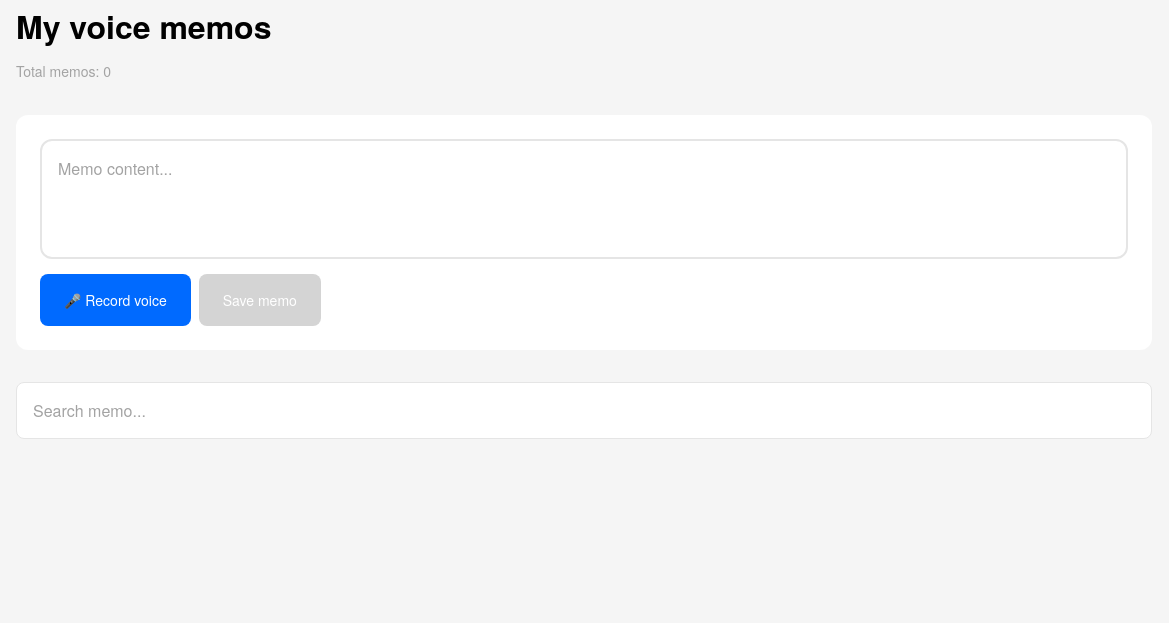
it: Main page › Create memo, when filled and Save clicked
The image size is (1169, 623).
Expected: the text with id "memosCount" reads "0", [103, 61, 111, 81]
Type "Hello memo" into the text box with placeholder "Memo content..." at [584, 199], box [40, 139, 1128, 259]
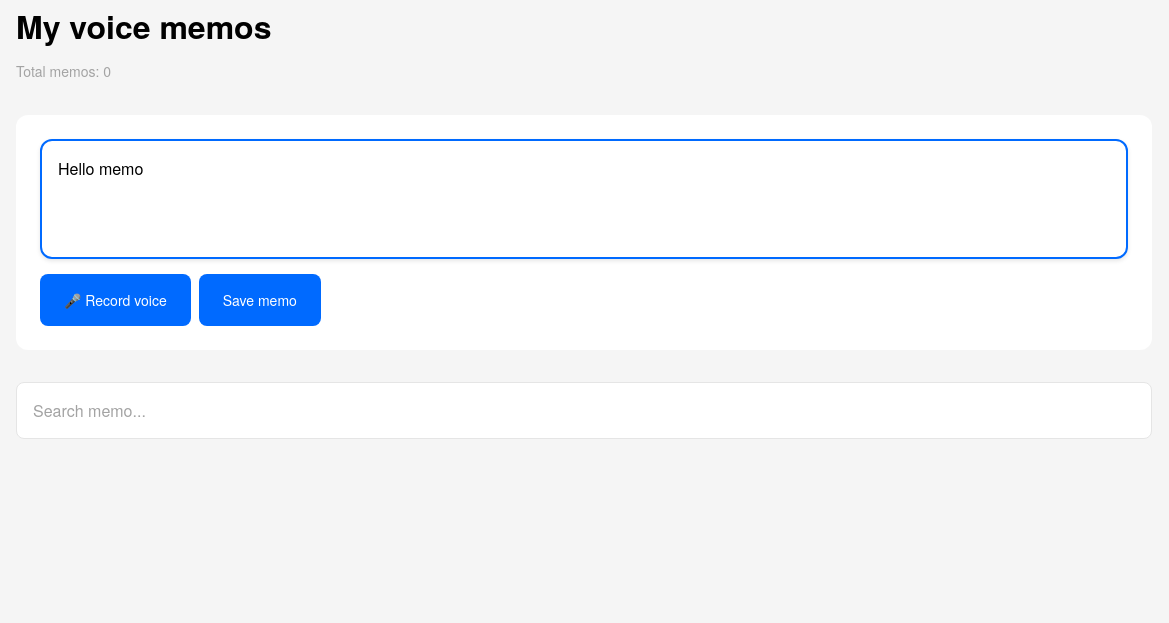
Now the button "Save memo" is enabled
Click the button "Save memo" at [260, 300], box [199, 274, 321, 326]
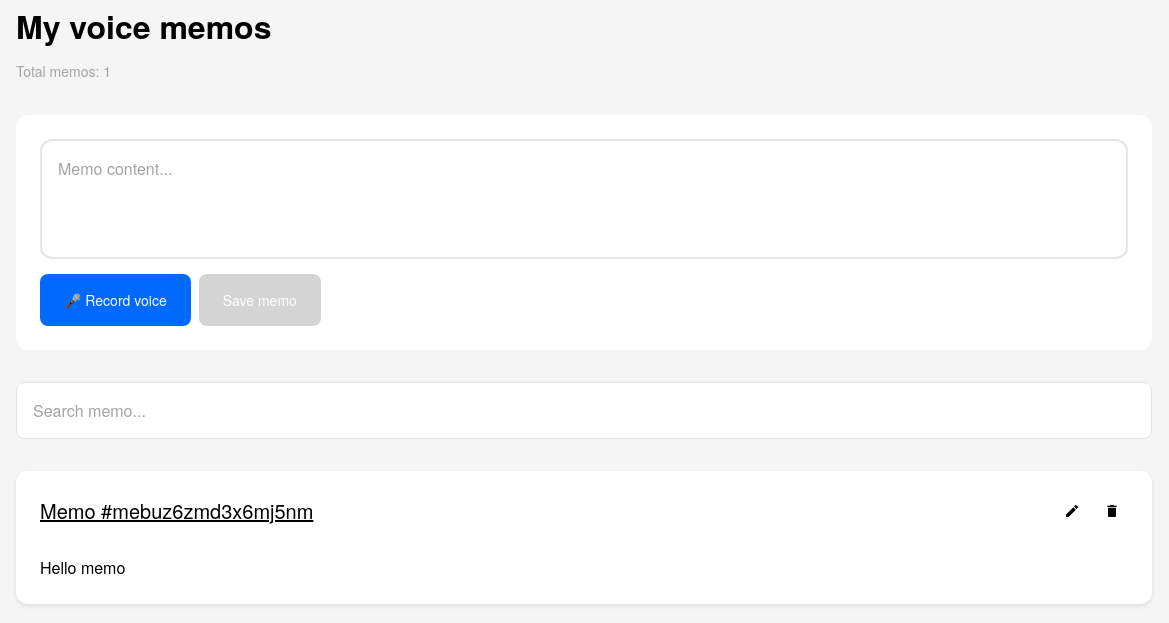
Now the text "Hello memo" is shown, box [40, 556, 125, 579]
Now the text with id "memosCount" reads "1", box [103, 61, 111, 81]
